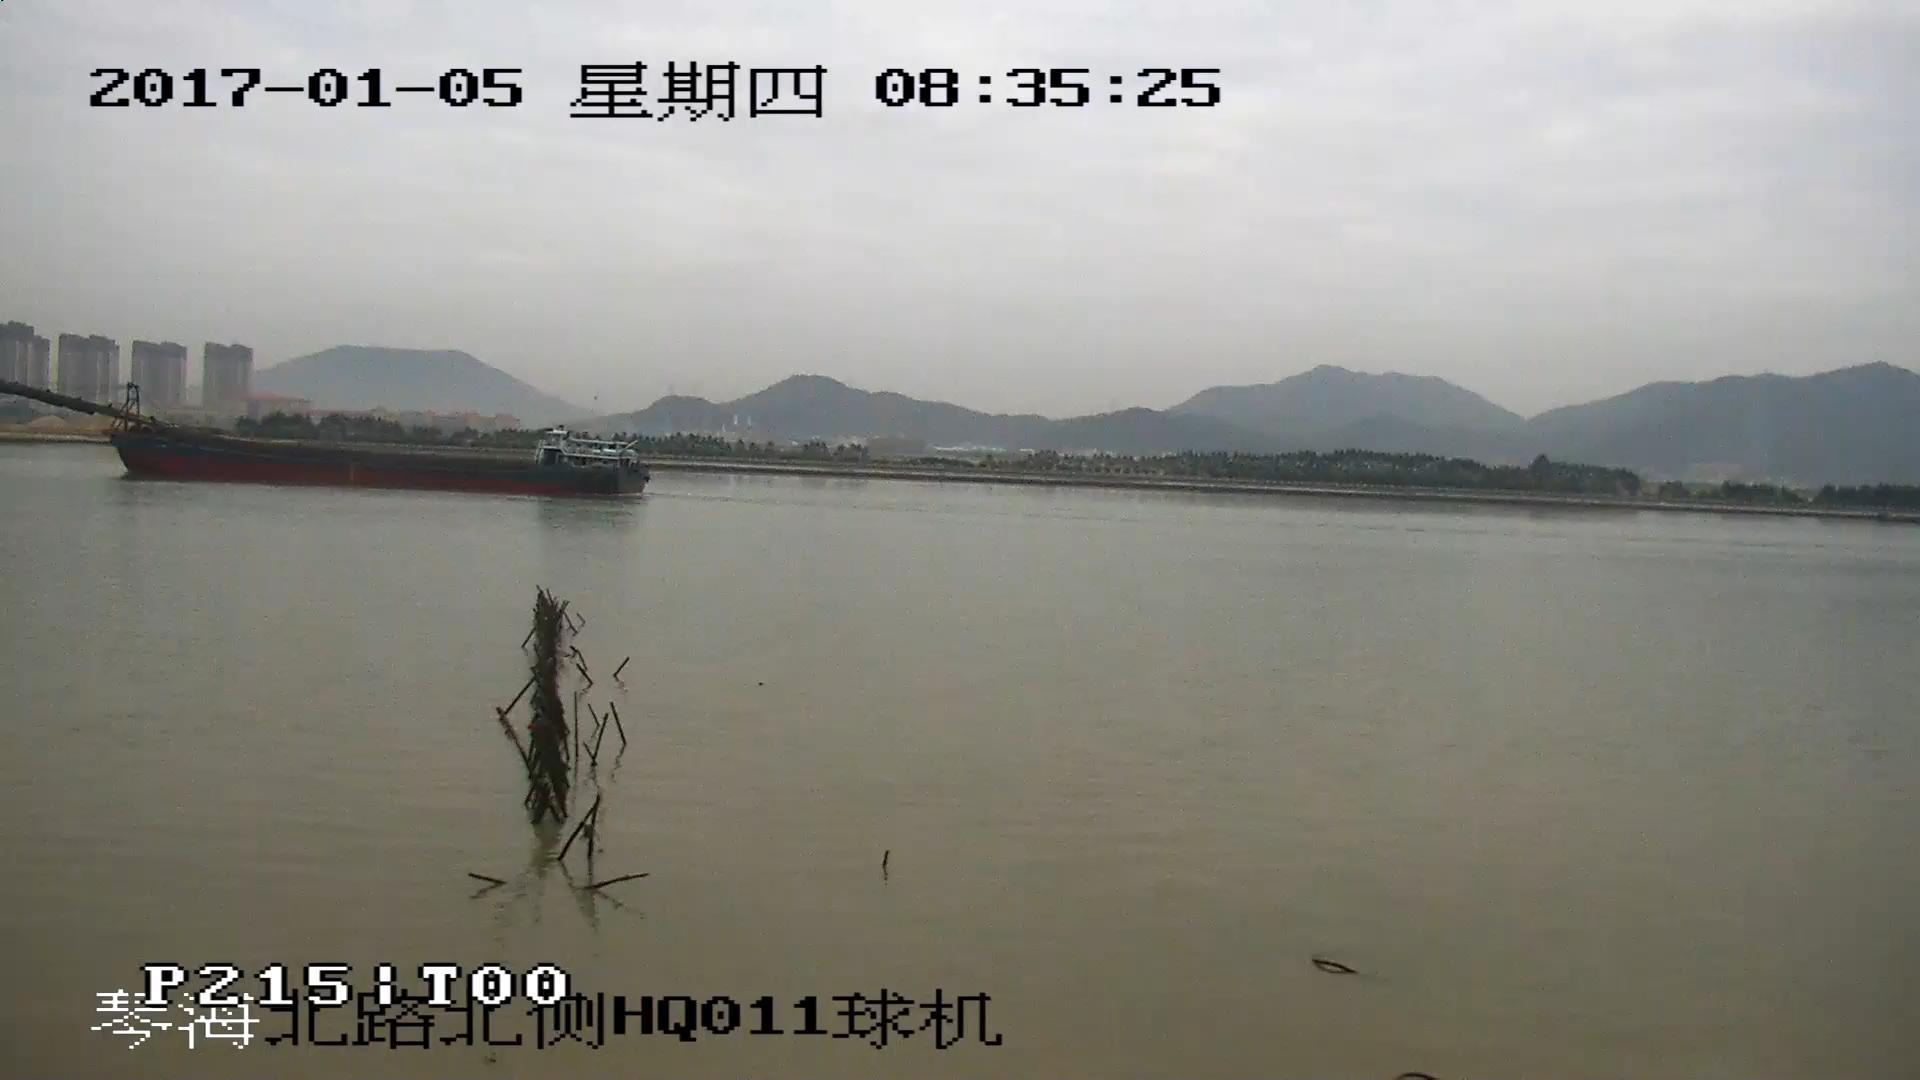Ship: (3, 382, 654, 495)
